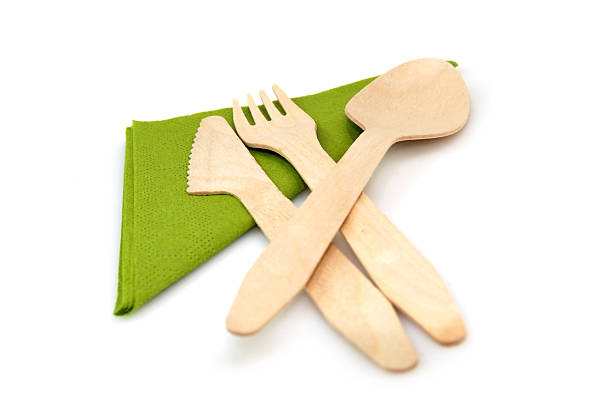Wooden Utensils: (173, 31, 486, 374)
